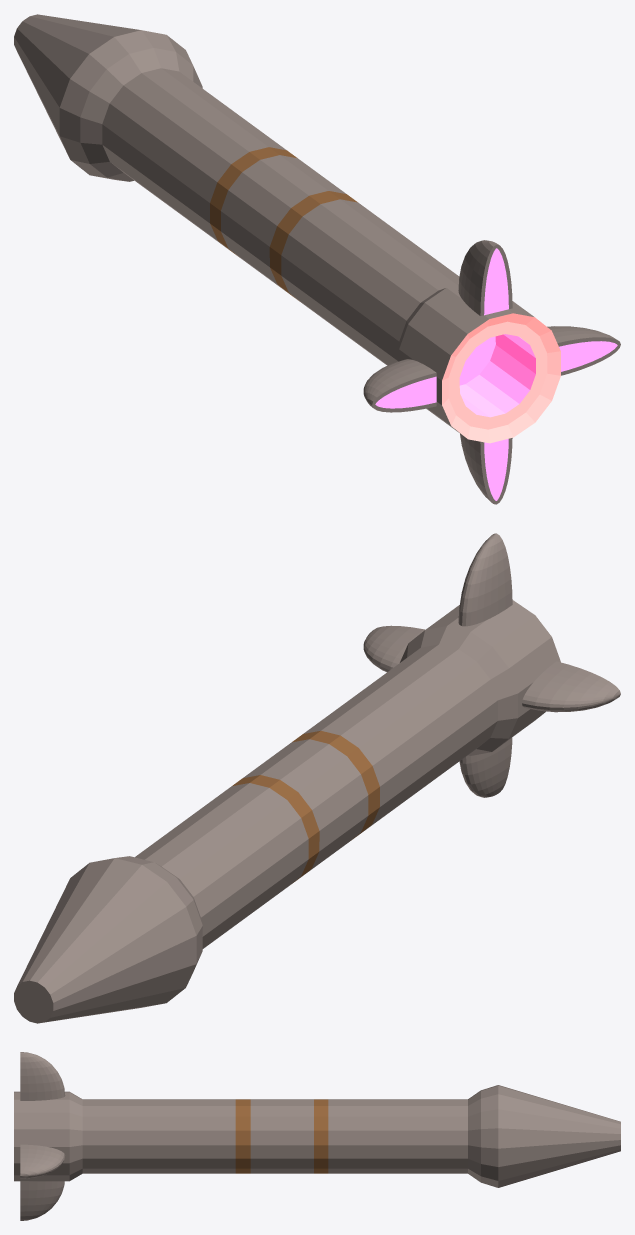
File: Missile Model.fbx
The picture shows the model from 3 angles, top to bottom: view 1: azimuth 30°, elevation 25°; view 2: azimuth 150°, elevation 25°; view 3: azimuth 270°, elevation 25°; orthographic projection. The views are drawn at different scales.
Visible parts, largest first — view 1: Missile Body; view 2: Missile Body; view 3: Missile Body.
Boxes of the visible parts, bbox=[...] form: Missile Body: bbox=[14, 14, 620, 504]; Missile Body: bbox=[14, 533, 620, 1023]; Missile Body: bbox=[14, 1052, 620, 1220].
Bounding box in the file's own units: 79.98 × 79.78 × 260.
